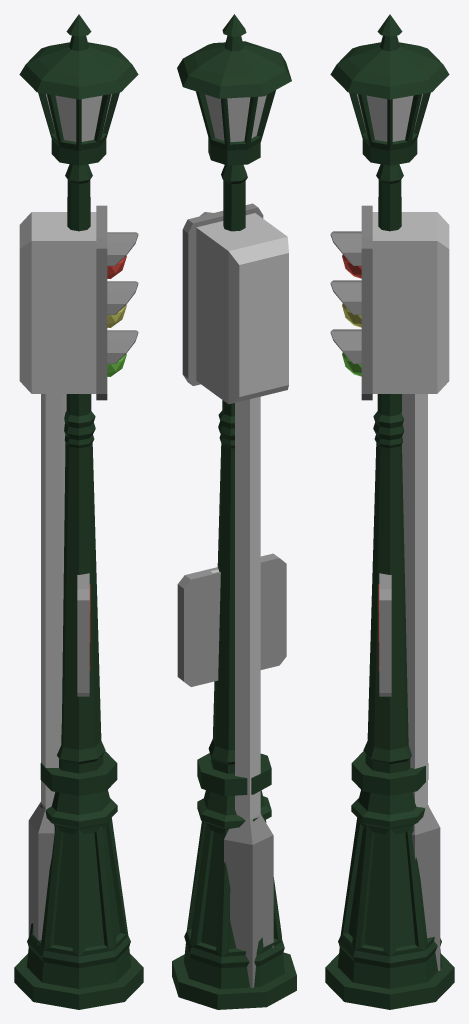
File: street.glb
The picture shows the model from 3 angles, left to right: view 1: azimuth 90°, elevation 25°; view 2: azimuth 210°, elevation 25°; view 3: azimuth 270°, elevation 25°; orthographic projection.
Visible parts, largest first — view 1: Streetlight_Single, TrafficLight, Sign_NoParking; view 2: TrafficLight, Streetlight_Single, Sign_NoParking; view 3: Streetlight_Single, TrafficLight, Sign_NoParking.
Part boxes in pixels (<box>): Streetlight_Single: <box>14,14,143,1009</box>; TrafficLight: <box>19,205,138,944</box>; Sign_NoParking: <box>77,573,90,696</box>; TrafficLight: <box>182,203,288,987</box>; Streetlight_Single: <box>172,14,296,1009</box>; Sign_NoParking: <box>177,553,286,686</box>; Streetlight_Single: <box>325,14,454,1009</box>; TrafficLight: <box>330,205,449,970</box>; Sign_NoParking: <box>378,573,391,696</box>.
Size of the model in its own units: 0.6761 by 5.6 by 0.6761.
